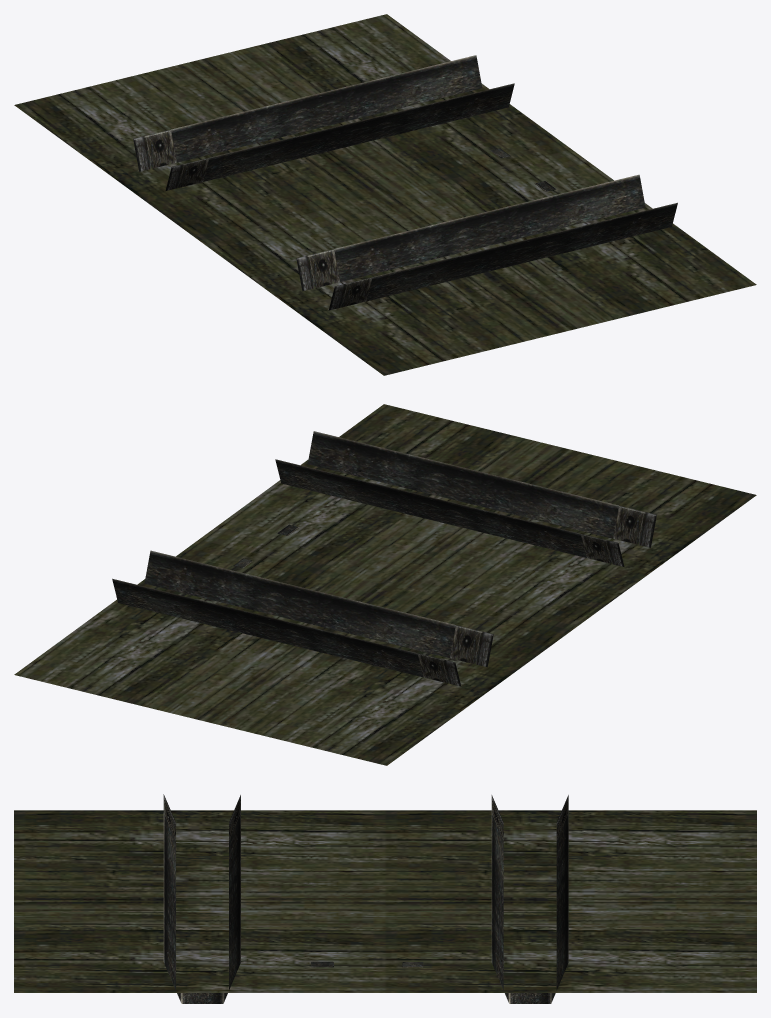
The model's file is d_ex_nord_door_01.obj.
The picture shows the model from 3 angles, top to bottom: view 1: azimuth 30°, elevation 25°; view 2: azimuth 150°, elevation 25°; view 3: azimuth 270°, elevation 25°; orthographic projection.
Visible parts, largest first — view 1: Tri Ex_nord_door_01 0, Tri Ex_nord_door_01 1, Tri Ex_nord_door_01 2; view 2: Tri Ex_nord_door_01 0, Tri Ex_nord_door_01 1, Tri Ex_nord_door_01 2; view 3: Tri Ex_nord_door_01 0, Tri Ex_nord_door_01 1, Tri Ex_nord_door_01 2.
Boxes of the visible parts, bbox=[...] form: Tri Ex_nord_door_01 0: bbox=[14, 14, 756, 375]; Tri Ex_nord_door_01 1: bbox=[171, 55, 677, 301]; Tri Ex_nord_door_01 2: bbox=[133, 129, 372, 310]; Tri Ex_nord_door_01 0: bbox=[14, 404, 756, 765]; Tri Ex_nord_door_01 1: bbox=[112, 431, 618, 677]; Tri Ex_nord_door_01 2: bbox=[417, 505, 656, 686]; Tri Ex_nord_door_01 0: bbox=[14, 810, 756, 992]; Tri Ex_nord_door_01 1: bbox=[163, 813, 568, 1003]; Tri Ex_nord_door_01 2: bbox=[163, 794, 568, 840].
Size of the model in its own units: 114 by 14.24 by 197.
Materials: 3 (3 with a texture image).
